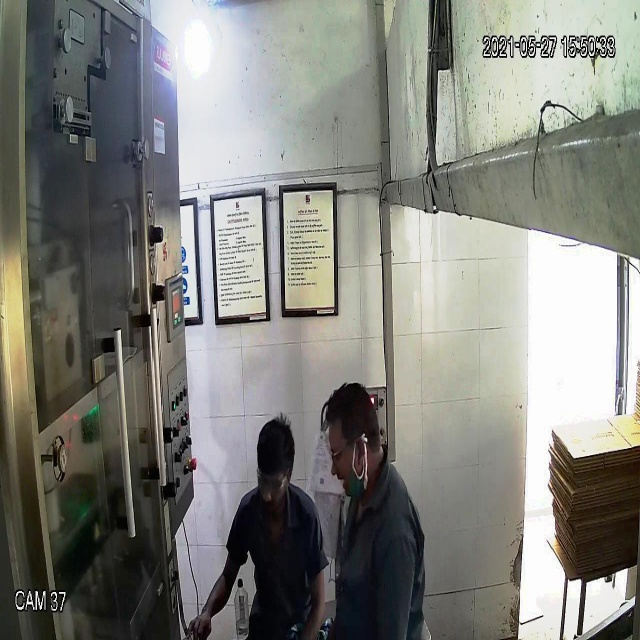Gafas: (254, 463, 291, 495)
